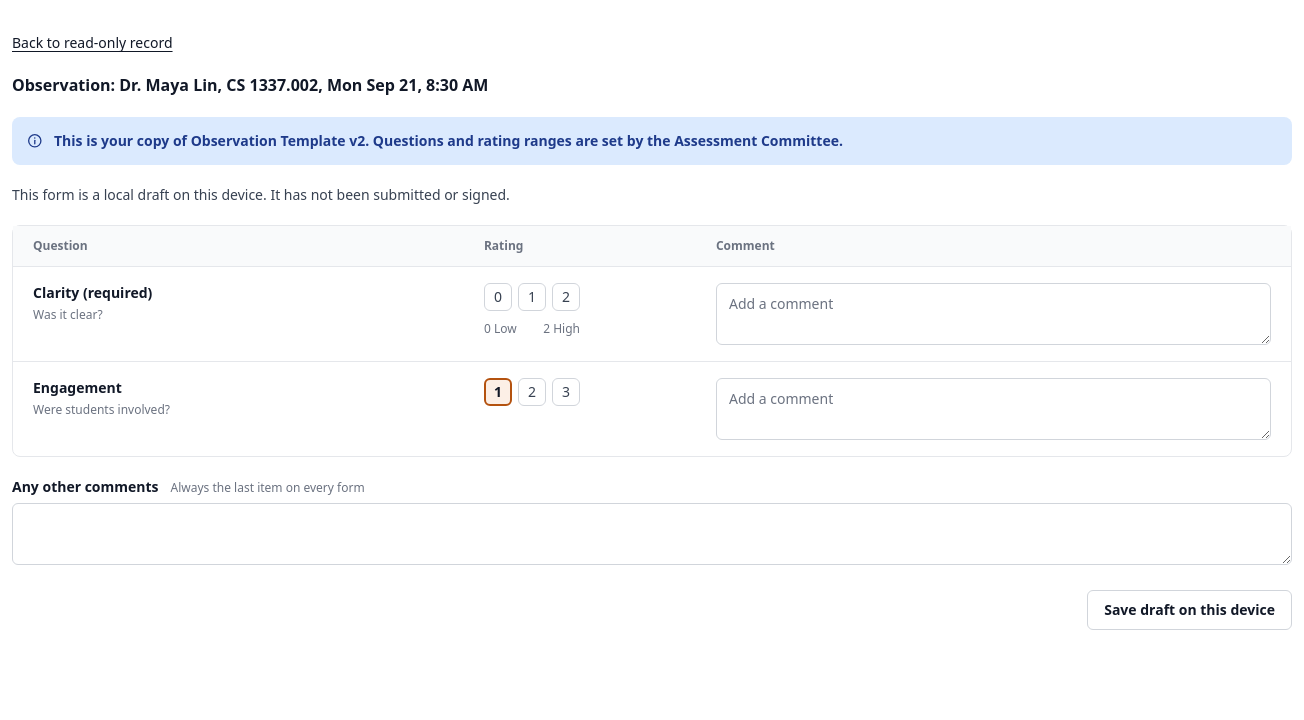
uses assigned-version questions, zero scale and required markers, saving a local draft without submitting
Check: the text "Observation Template v2" is shown, box [54,131,843,150]
Check: the element named "Clarity" is shown, box [484,283,580,311]
Click the radio button labelled "0" at (498,297), box [484,283,512,311]
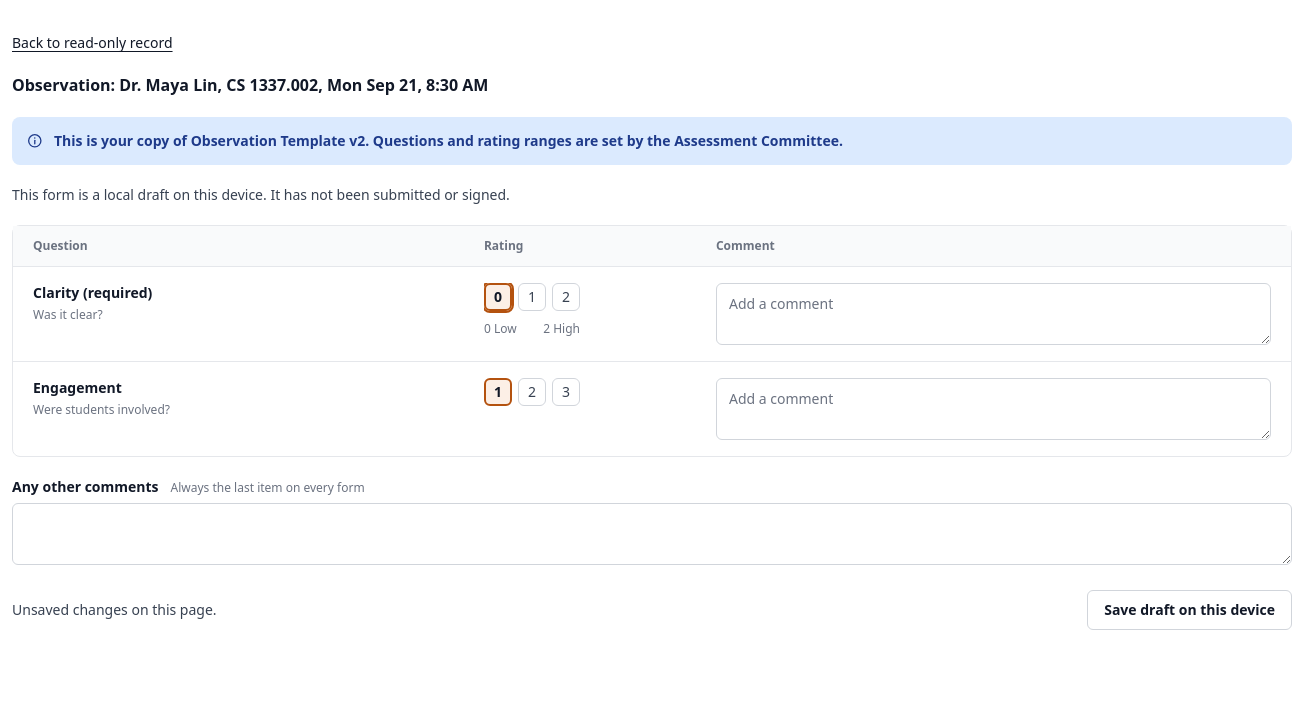
Type "Well explained" into the text box named "Comment on Clarity" at (994,314), box [716,283,1271,345]
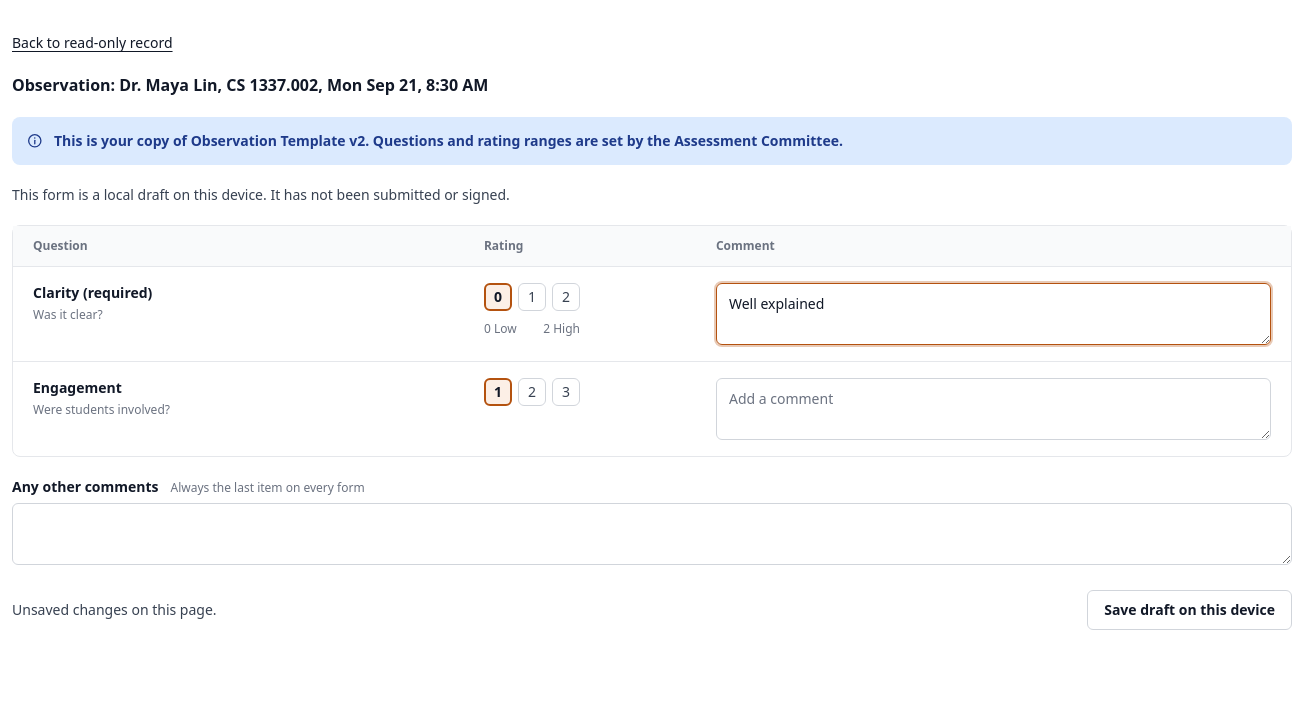
Click the button "Save draft on this device" at (1190,610), box [1087,590,1292,630]
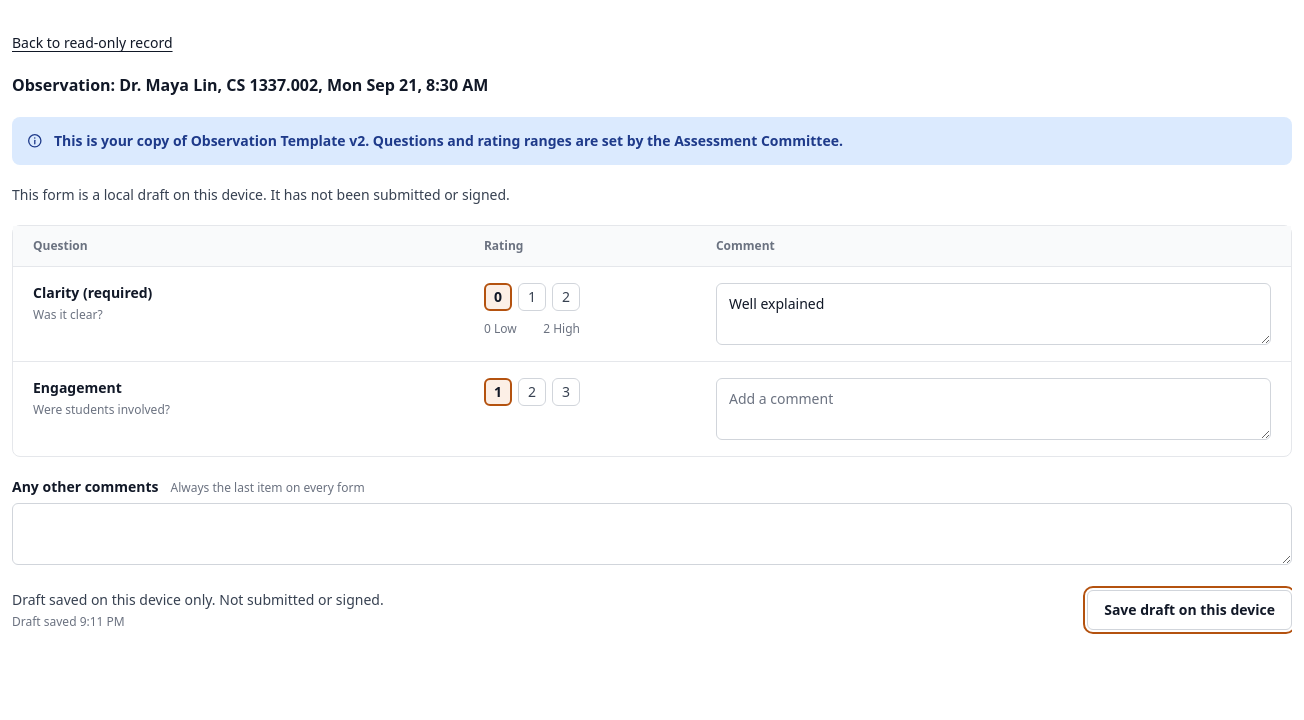
Check: the radio button labelled "0" is checked, box [484,283,512,311]
Check: the text "Draft saved on this device only. Not submitted or signed." is shown, box [12,590,384,610]
